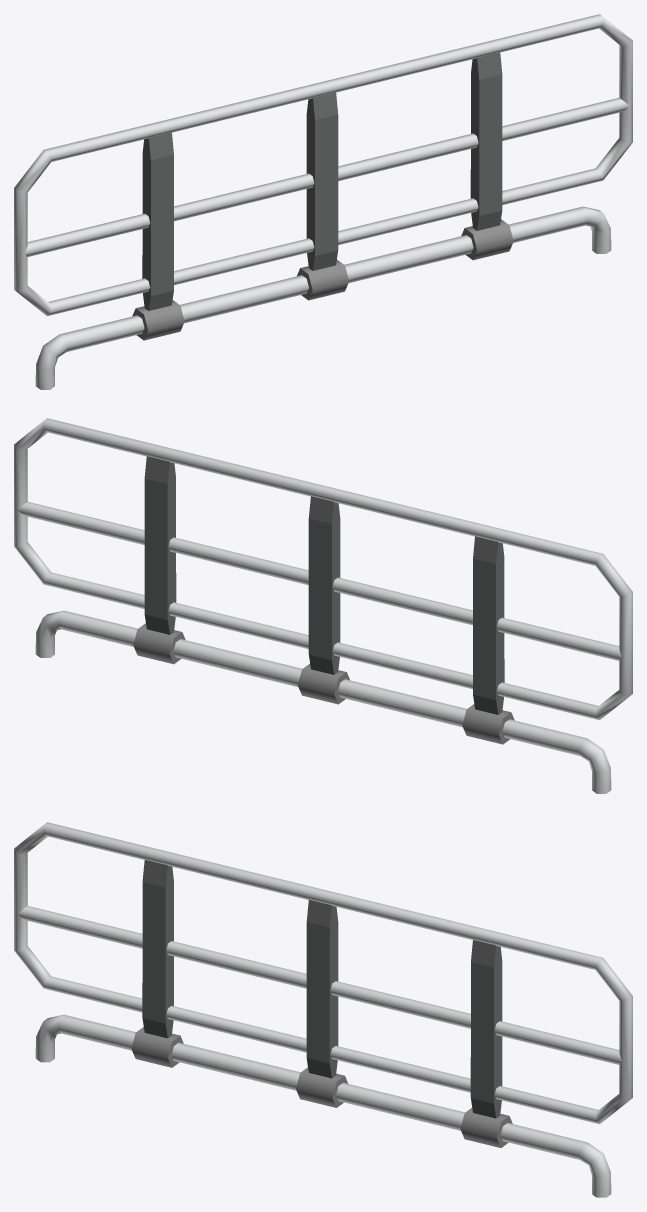
Rendered from Fence_type_A_003.fbx.
3 views of the same model, one above another, from view 1: azimuth 30°, elevation 25°; view 2: azimuth 150°, elevation 25°; view 3: azimuth 330°, elevation 25° (orthographic).
Visible parts, largest first — view 1: Fence_type_A_003; view 2: Fence_type_A_003; view 3: Fence_type_A_003.
Boxes of the visible parts, x1,y1,x2,y2 form: Fence_type_A_003: [14, 14, 632, 389]; Fence_type_A_003: [14, 418, 632, 793]; Fence_type_A_003: [14, 822, 632, 1197].
Bounding box in the file's own units: 390 × 18.39 × 142.
